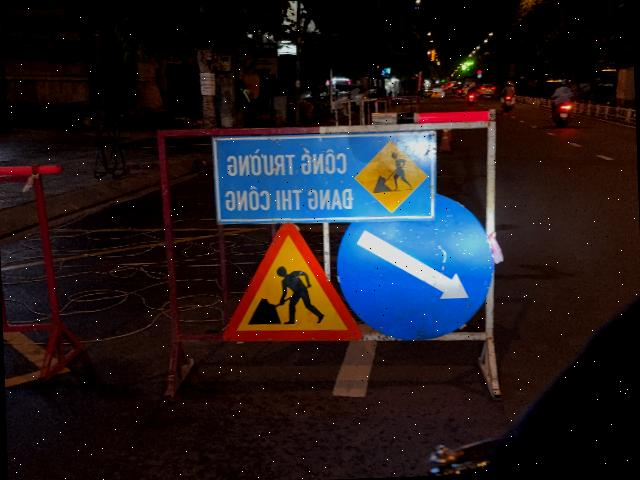cong-truong-dang-thi-cong: (218, 219, 362, 345)
huong-phai-di-vong-chuong-ngai-vat: (336, 192, 496, 343)
